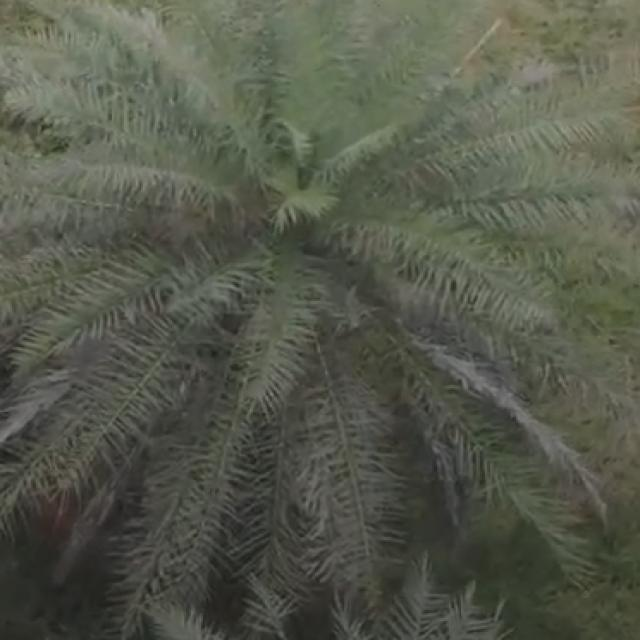notMangoTree: (0, 0, 640, 615)
